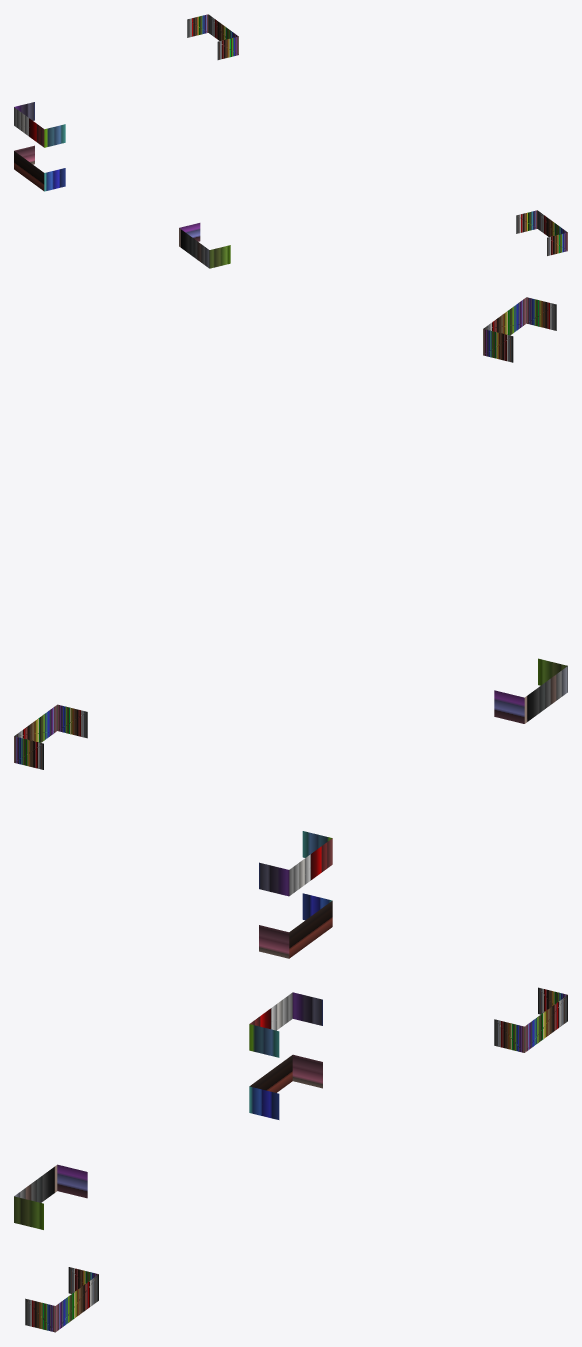
Rendered from Model_Block4.fbx.
3 renders of one model, top to bottom at view 1: azimuth 30°, elevation 25°; view 2: azimuth 150°, elevation 25°; view 3: azimuth 330°, elevation 25°, orthographic. The views are drawn at different scales.
Parts seen in each view (by area): view 1: Tekstura2; view 2: Tekstura2; view 3: Tekstura2.
Part boxes in pixels (left/top/right/bottom): Tekstura2: left=14, top=14, right=567, bottom=268; Tekstura2: left=14, top=297, right=567, bottom=958; Tekstura2: left=14, top=987, right=567, bottom=1332.
Size of the model in its own units: 5055 by 1186 by 1570.
